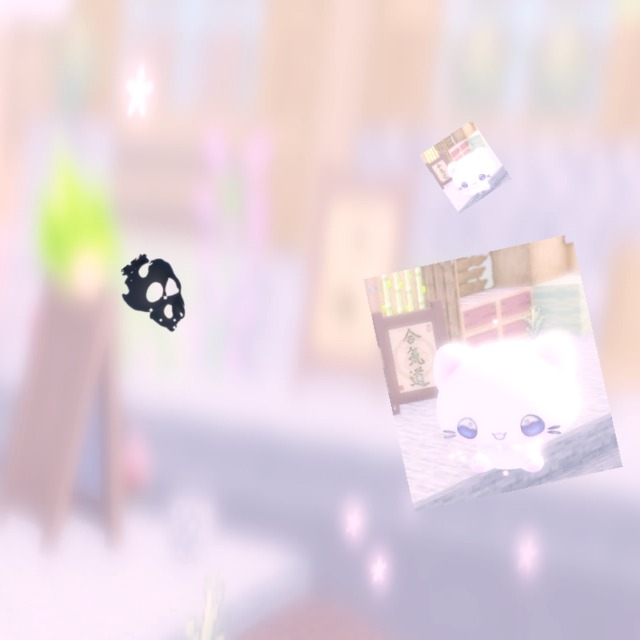urso_branco: (363, 233, 623, 513), (419, 120, 512, 214)
urso_preto: (103, 242, 210, 351)
